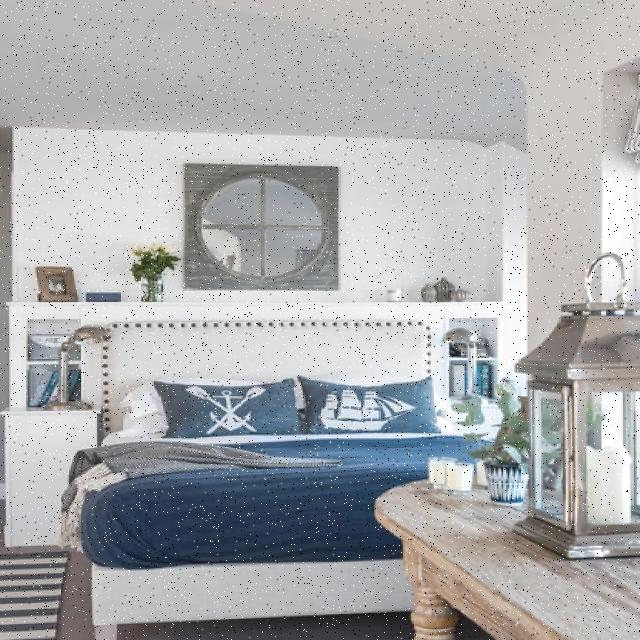bed: (70, 321, 570, 563)
